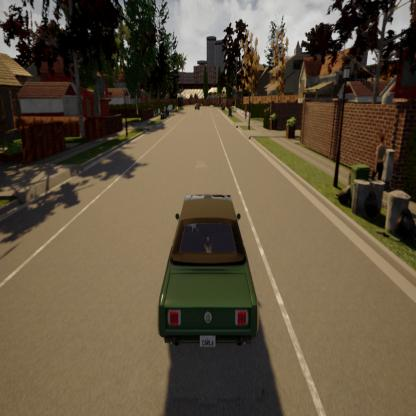Cars: (152, 151, 267, 377), (192, 94, 205, 115)
Pedestrian: (372, 124, 391, 196), (242, 101, 252, 124)
